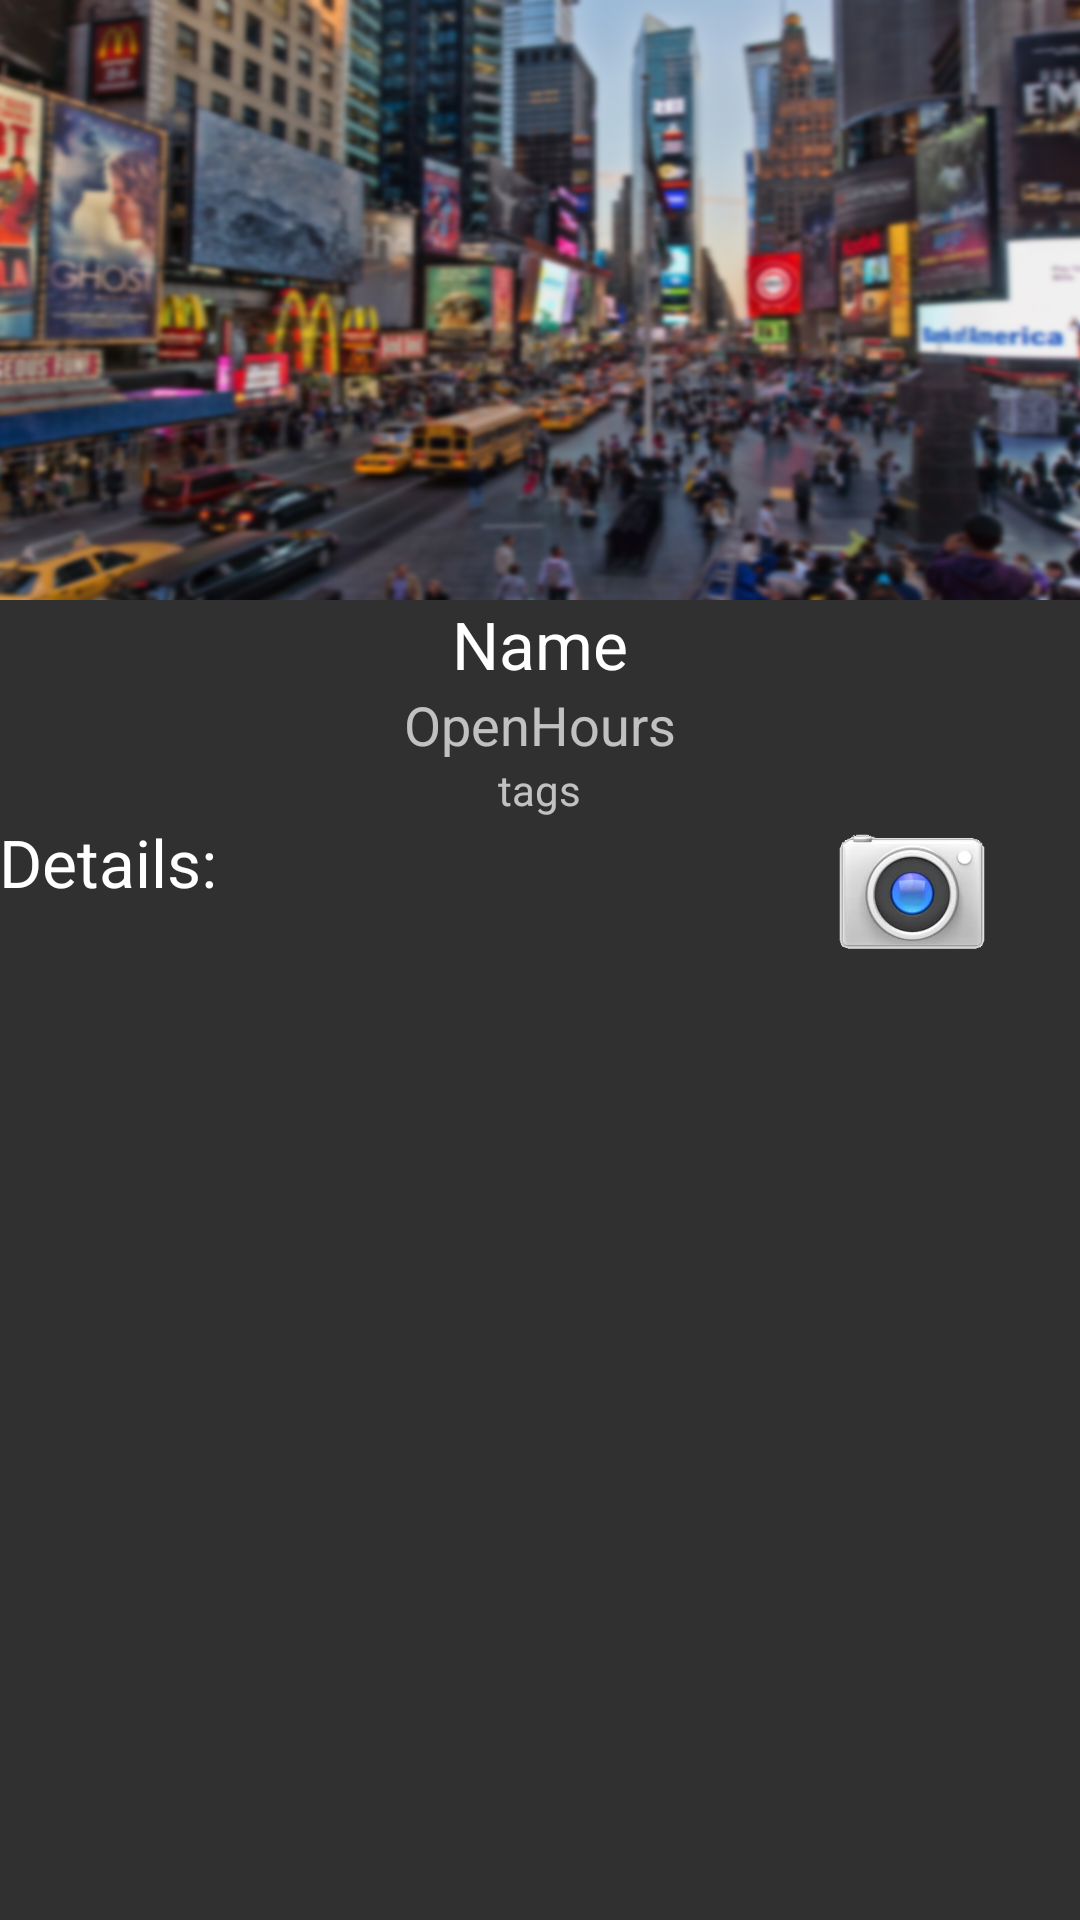

Screen size 1080px x 1920px. Icon name, then its box in pixels as [x1=x1, y1=y1, x2=x2, y2=y2]:
camera: [x1=839, y1=834, x2=985, y2=949]
